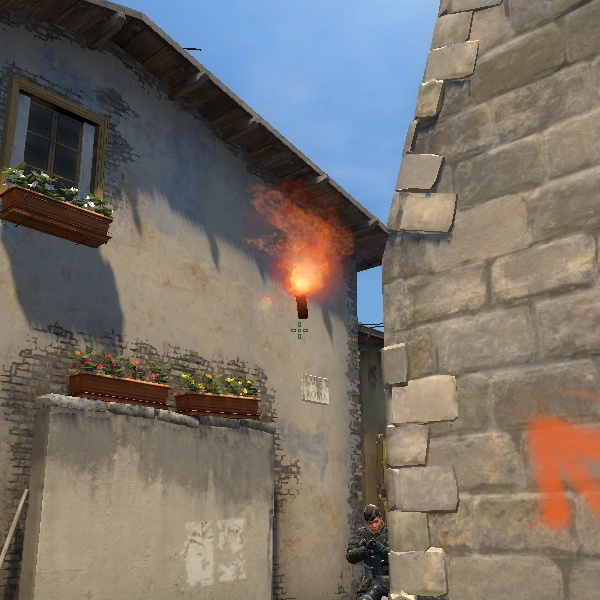t_body: (340, 500, 403, 599)
